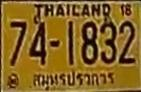1: (67, 21, 73, 64)
2: (118, 20, 134, 63)
3: (100, 21, 116, 63)
4: (29, 20, 45, 64)
7: (9, 21, 26, 65)
8: (81, 20, 97, 63)
SPK: (30, 71, 120, 92)
